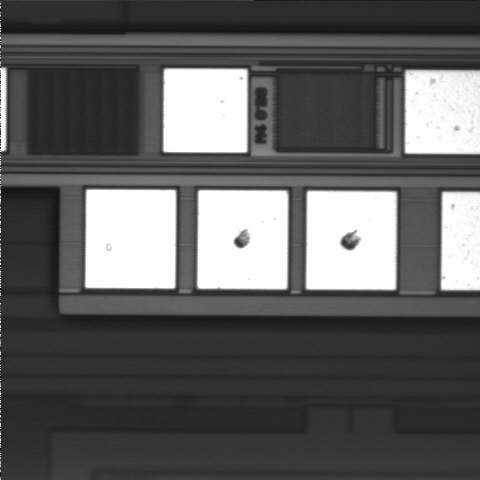pad: (197, 190, 288, 289), (85, 190, 176, 288), (306, 191, 396, 290), (164, 69, 247, 152)
